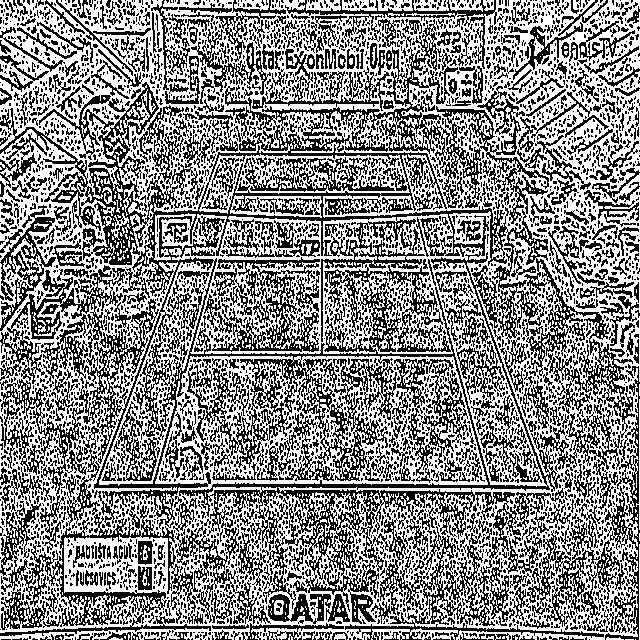left side: (399, 152, 549, 488), (95, 152, 245, 486)
player: (172, 370, 214, 492), (327, 101, 344, 142)
